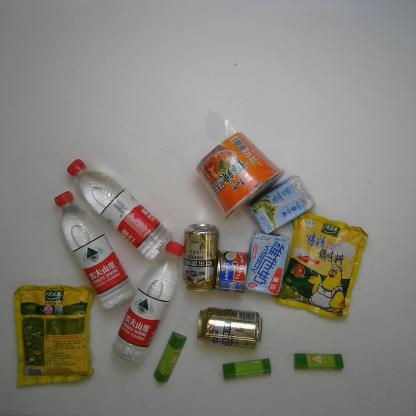Alcohol: (197, 307, 264, 349), (184, 223, 218, 292)
Canned Food: (215, 247, 248, 294)
Drink: (67, 158, 173, 258), (52, 191, 134, 310), (110, 242, 186, 362)
Instant Noodles: (194, 132, 283, 220)
Milk: (249, 174, 316, 236), (246, 230, 290, 296)
Seasoner: (274, 209, 370, 320), (13, 282, 93, 388)
Stationery: (154, 332, 188, 383), (222, 358, 272, 381), (292, 352, 345, 372)
